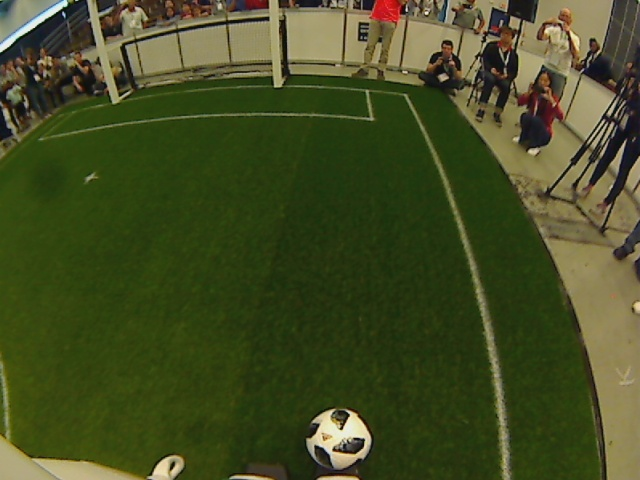ball: (300, 406, 377, 473)
